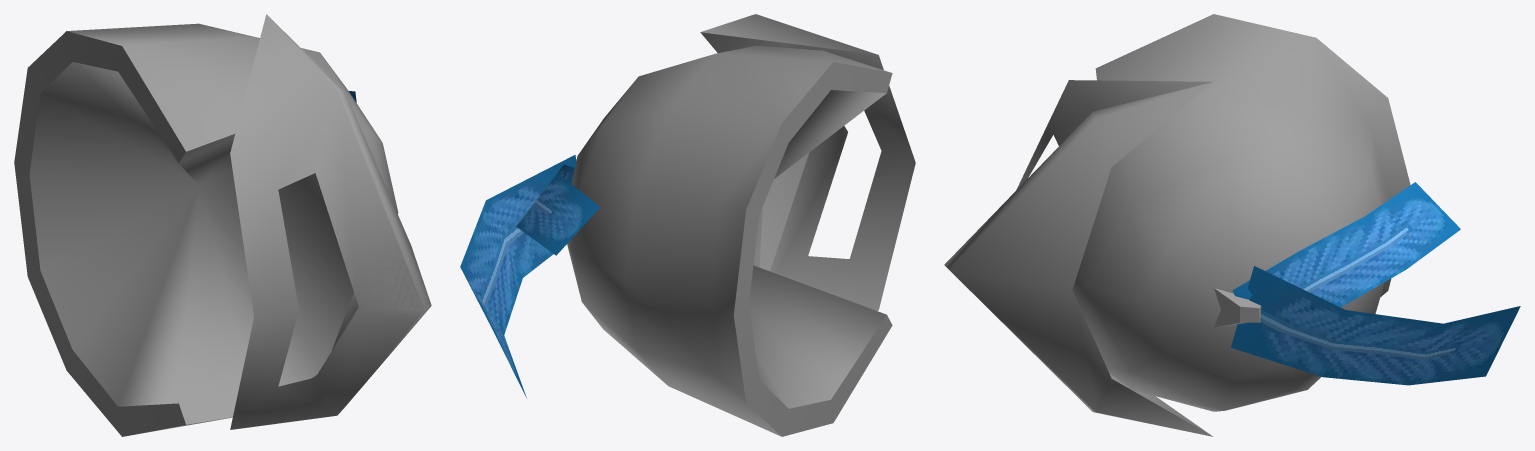
Rendered from hlmt_helmet_knights.dae.
3 views of the same model, side by side, from view 1: azimuth 30°, elevation 25°; view 2: azimuth 150°, elevation 25°; view 3: azimuth 270°, elevation 25° (orthographic). The views are drawn at different scales.
Visible parts, largest first — view 1: hlmt_helmet_knights; view 2: hlmt_helmet_knights; view 3: hlmt_helmet_knights.
Boxes of the visible parts, box(x1,y1,x2,y2) form: hlmt_helmet_knights: box(14, 14, 431, 436); hlmt_helmet_knights: box(460, 14, 915, 436); hlmt_helmet_knights: box(944, 14, 1520, 436).
Bounding box in the file's own units: 22.26 × 27.25 × 39.47.
2 materials, 2 textured.
